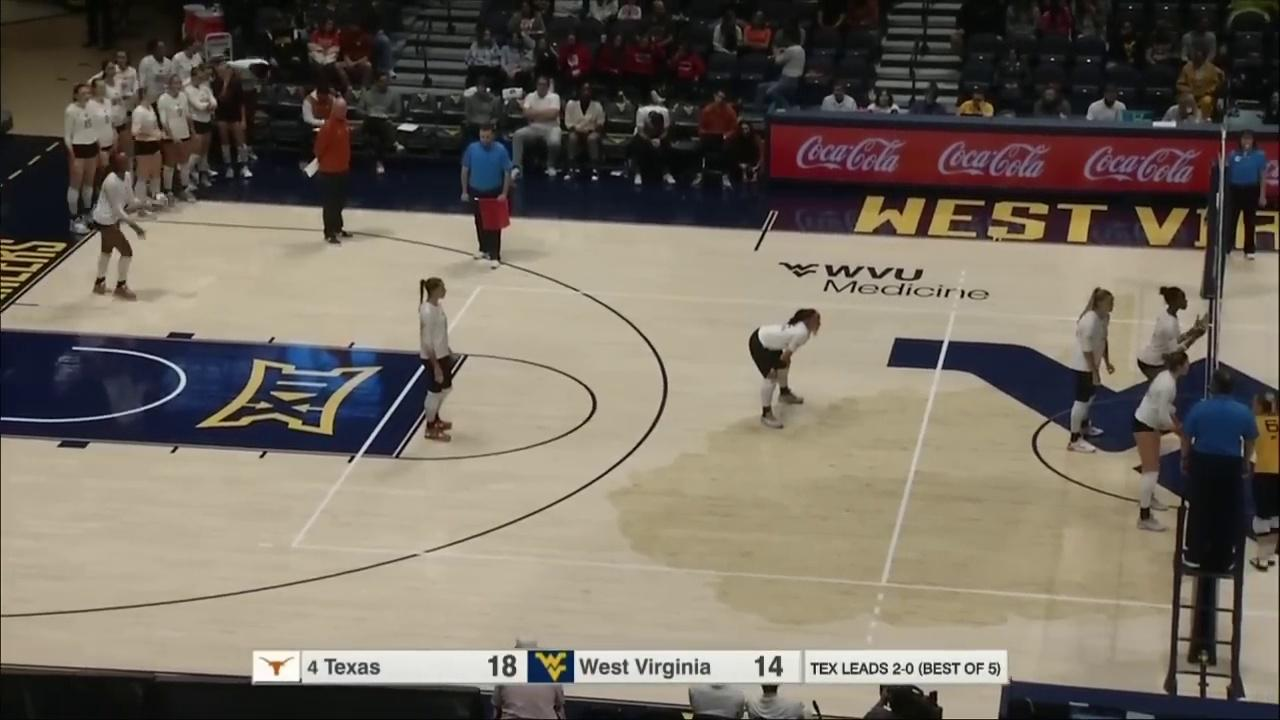player: (1137, 278, 1210, 433), (1133, 343, 1191, 535), (1058, 280, 1118, 453), (743, 306, 822, 429), (91, 142, 147, 305), (412, 274, 460, 445)
refree: (1180, 363, 1255, 572), (457, 120, 515, 272), (1216, 122, 1269, 263)
